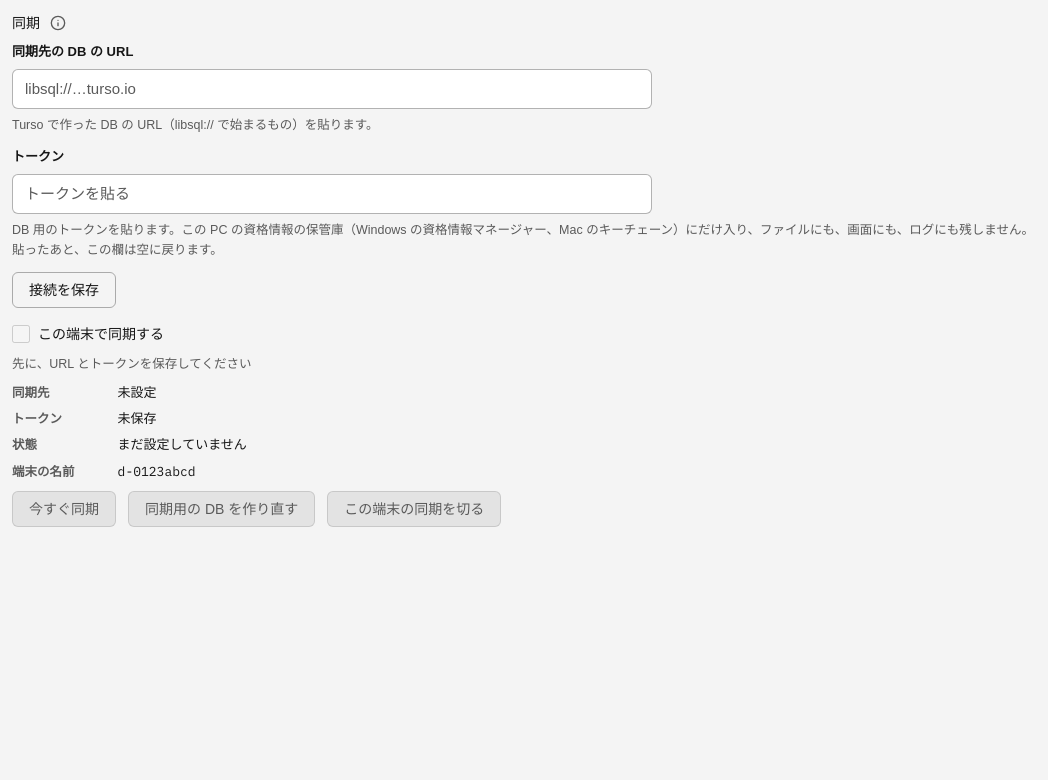
Test: 設定の「同期」の欄（F15、D-4） › 保存に失敗したら、理由を出し、貼ったトークンは残す（貼り直さなくていい）。キーボードの位置は理由へ移る
Type "libsql://example.com" into the field labelled "同期先の DB の URL".
click(332, 89); type("libsql://example.com")  # box [12,69,652,109]
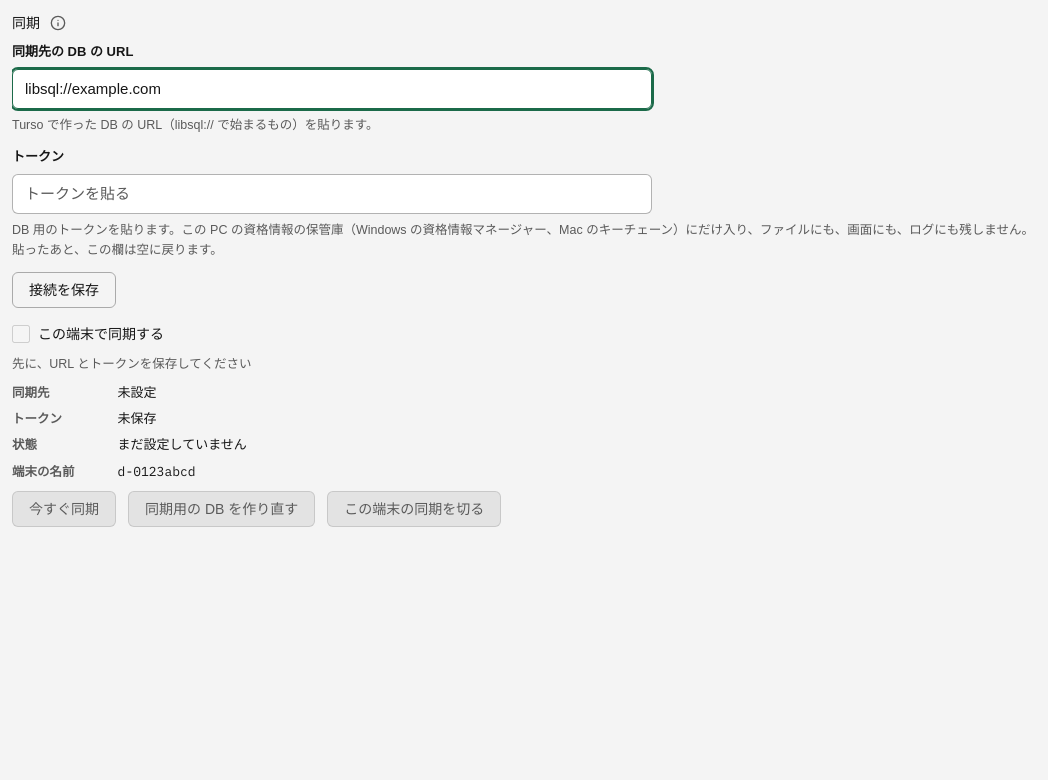
Type "TOKEN-SENTINEL-8c1e5a77-do-not-leak" into the password field labelled "トークン".
click(332, 194); type("TOKEN-SENTINEL-8c1e5a77-do-not-leak")  # box [12,174,652,214]
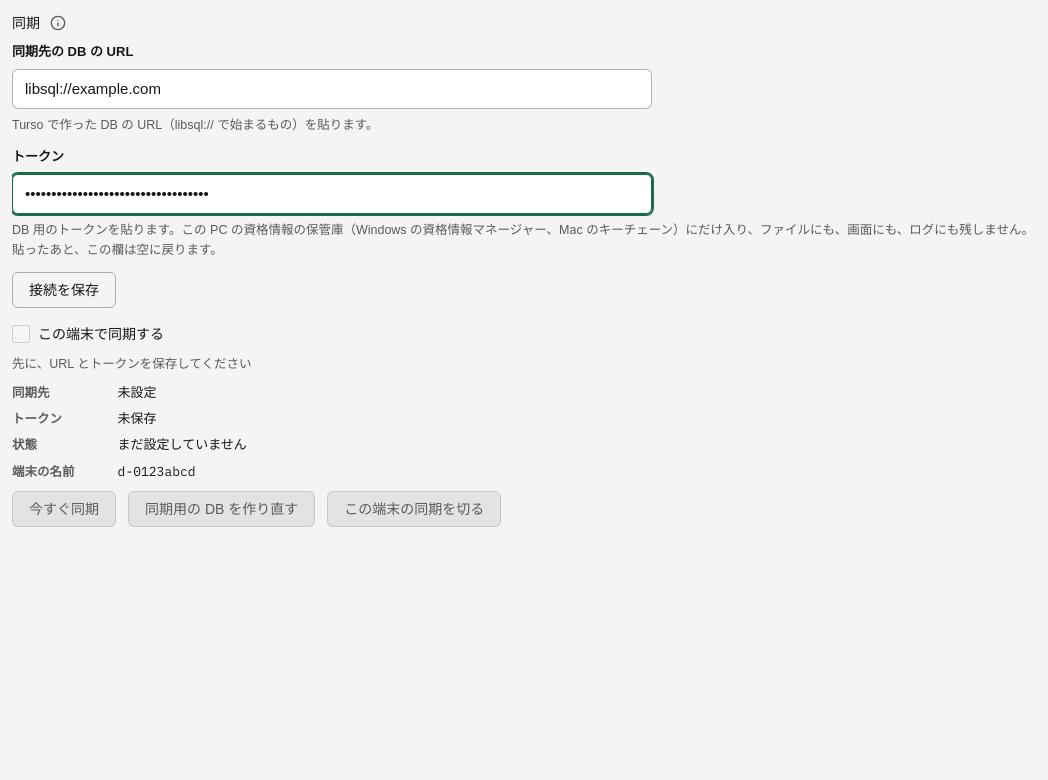
Click the button "接続を保存".
click(64, 290)  # box [12,272,116,308]
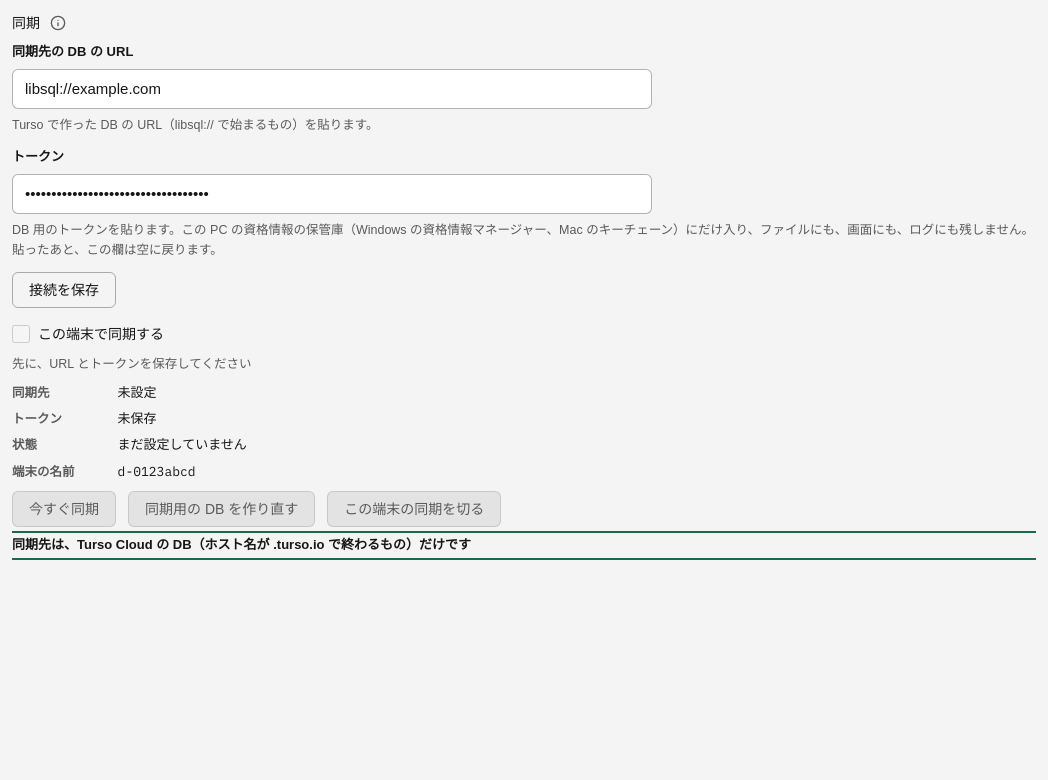
Result: the message "同期先は、Turso Cloud の DB（ホスト名が .turso.io で終わるもの）だけです" is shown at [12,537,471,552]
